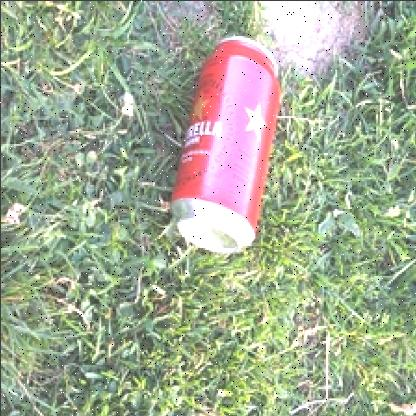Can: (171, 36, 279, 252)
